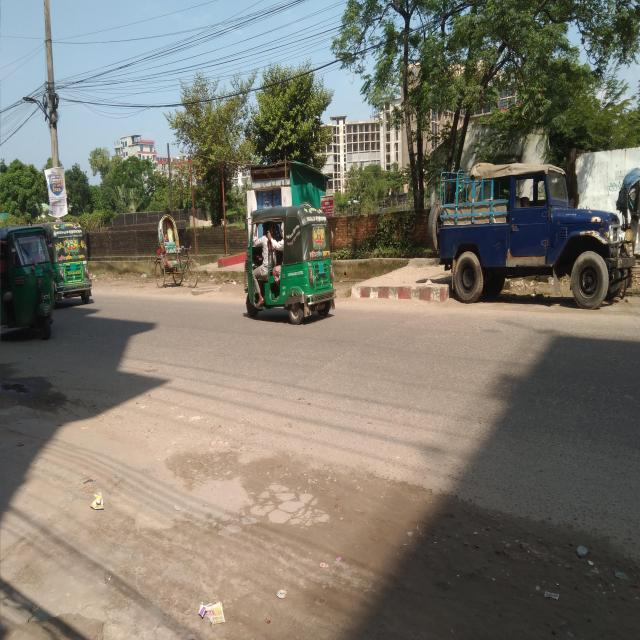CNG: (242, 199, 340, 329), (1, 204, 61, 343)
Rickshaw: (139, 205, 214, 302)
Zeep: (414, 158, 640, 325)
